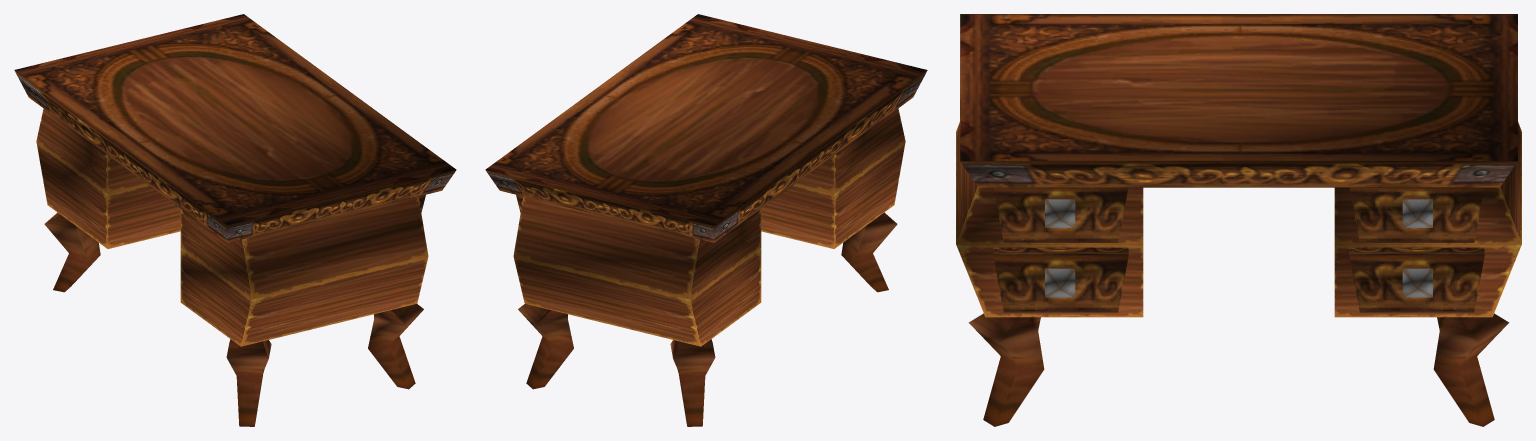
The model's file is fancydesk01.obj.
3 views of the same model, side by side, from view 1: azimuth 30°, elevation 25°; view 2: azimuth 150°, elevation 25°; view 3: azimuth 270°, elevation 25° (orthographic). The views are drawn at different scales.
Parts seen in each view (by area): view 1: fancydesk01.m2; view 2: fancydesk01.m2; view 3: fancydesk01.m2.
Part boxes in pixels (bbox=[...]): fancydesk01.m2: bbox=[14, 14, 456, 426]; fancydesk01.m2: bbox=[485, 14, 927, 426]; fancydesk01.m2: bbox=[956, 14, 1521, 426].
Size of the model in its own units: 1.95 by 1.76 by 3.18.
Materials: 1 (1 with a texture image).
